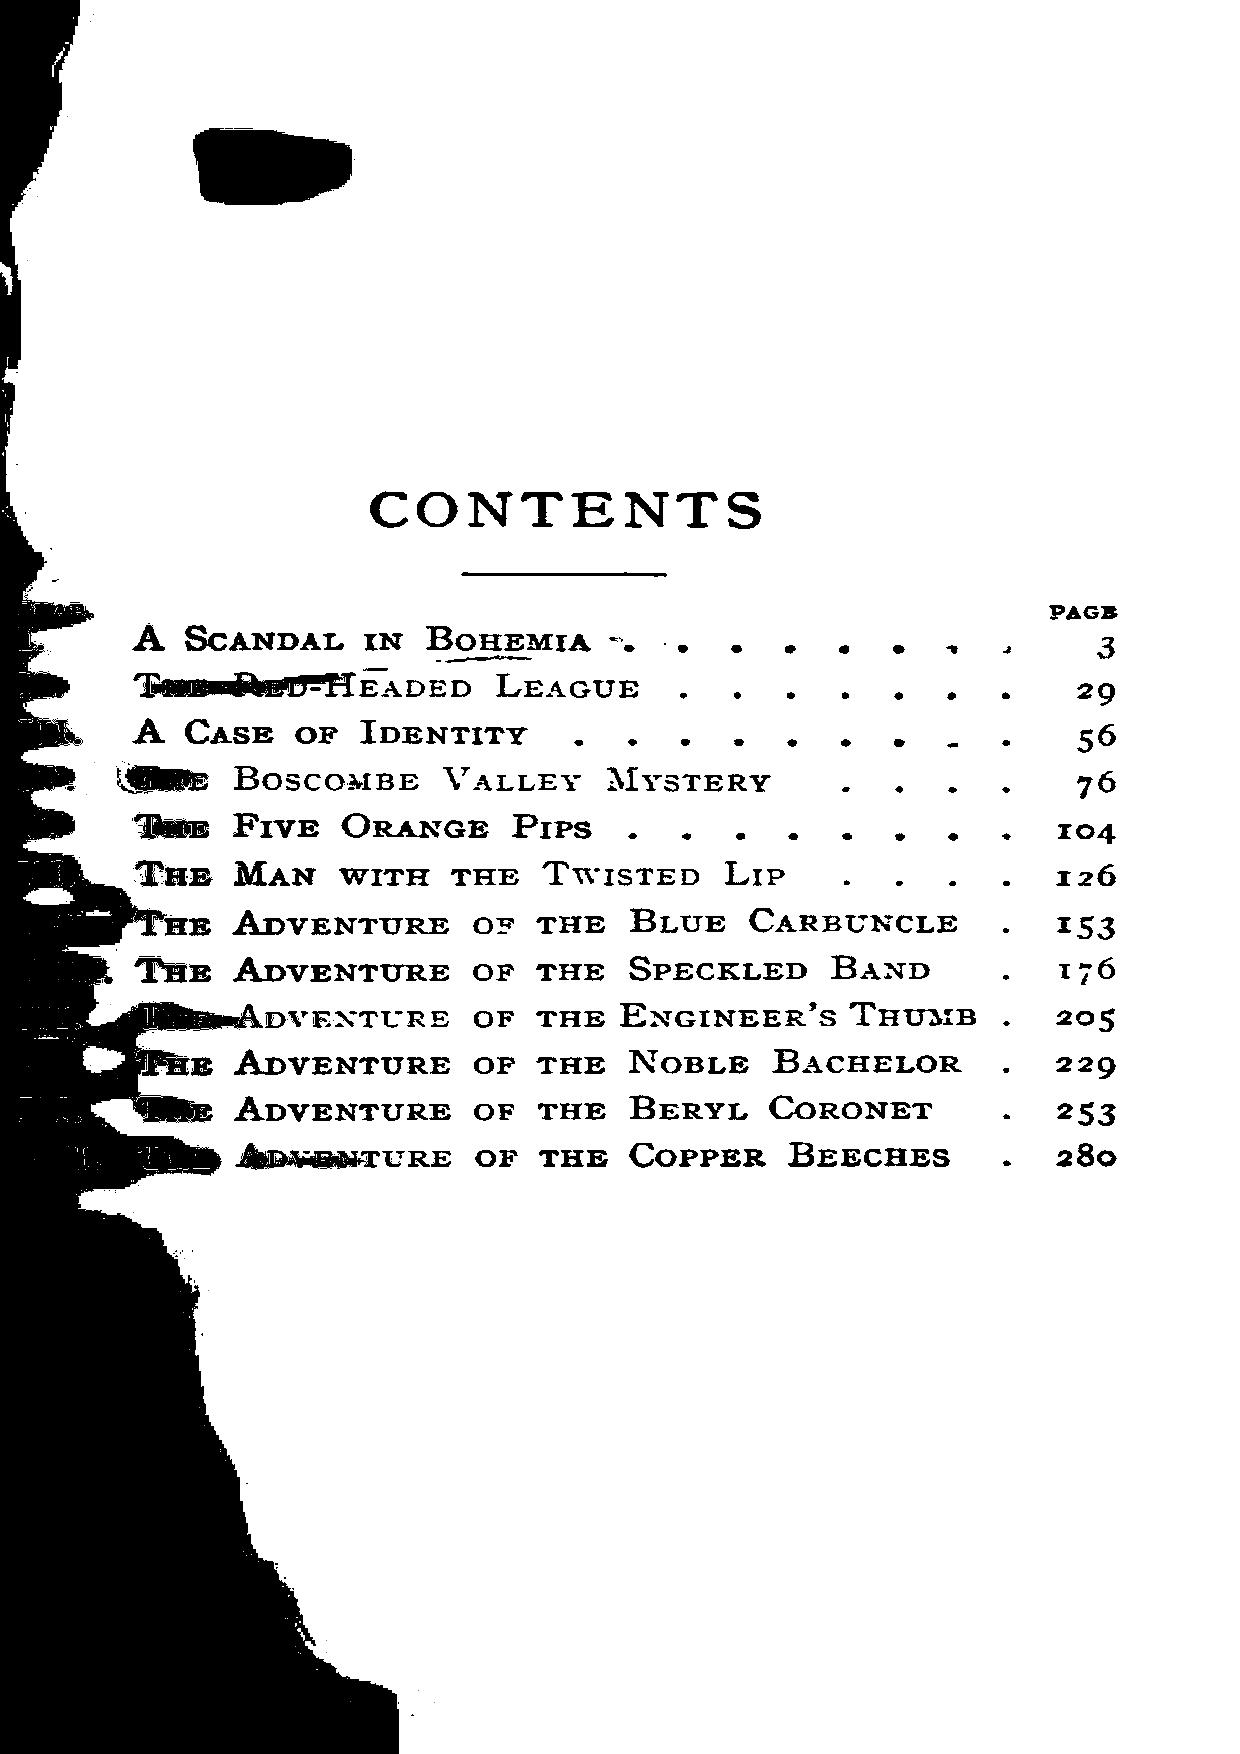TOC_chapter: (129, 902, 964, 942), (140, 994, 980, 1031), (136, 1088, 935, 1125), (133, 950, 931, 986), (138, 1139, 957, 1173), (132, 1044, 968, 1075), (138, 760, 777, 798), (136, 854, 793, 888), (129, 615, 596, 659), (134, 668, 644, 703), (126, 807, 589, 843), (133, 713, 533, 749)
TOC_pagenumber: (1056, 909, 1121, 943), (1057, 1095, 1117, 1130), (1052, 1139, 1121, 1169), (1056, 1005, 1122, 1033), (1053, 1049, 1117, 1078), (1056, 953, 1114, 982), (1048, 819, 1117, 843), (1053, 863, 1117, 888), (1074, 674, 1114, 709), (1075, 721, 1114, 754), (1076, 766, 1113, 798), (1095, 632, 1119, 662)
chapter: (365, 483, 761, 533)
